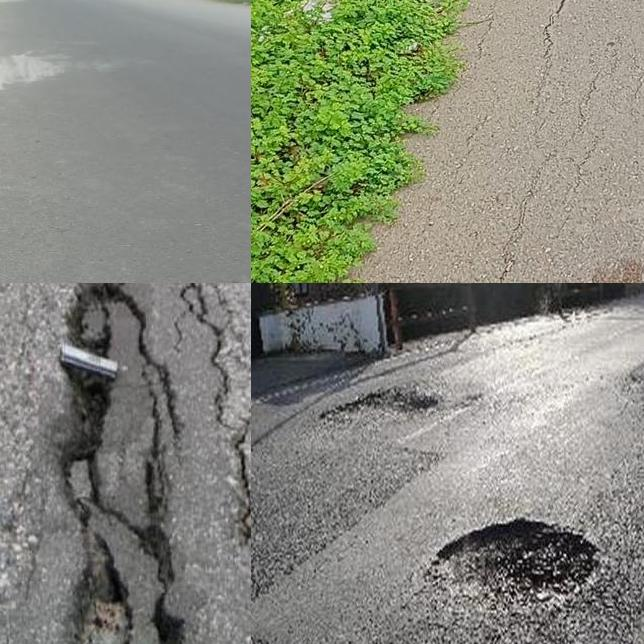Lubang: (440, 517, 604, 609), (330, 393, 443, 420)
Memanjang: (47, 283, 218, 644), (470, 211, 545, 283)
